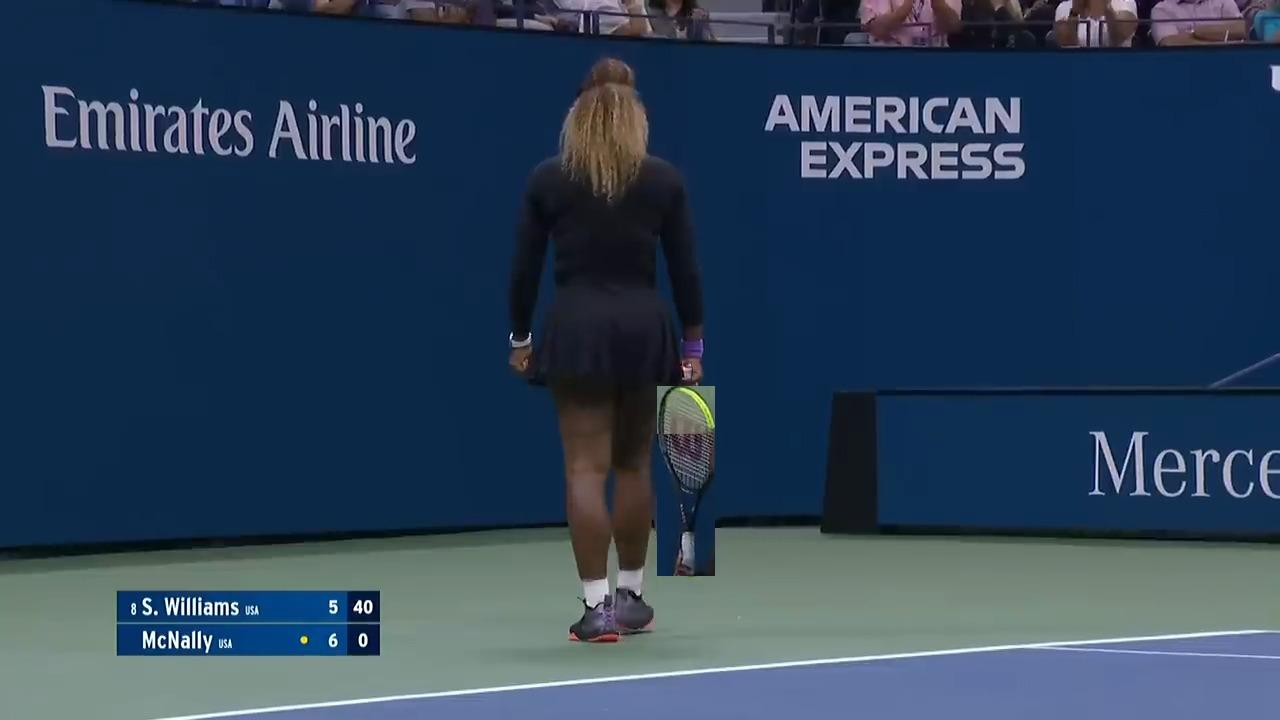tennis racket: (657, 386, 715, 576), (682, 361, 692, 380)
